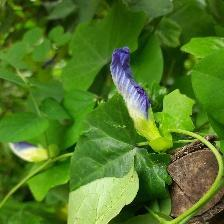shankupushpam: (107, 44, 159, 129)
